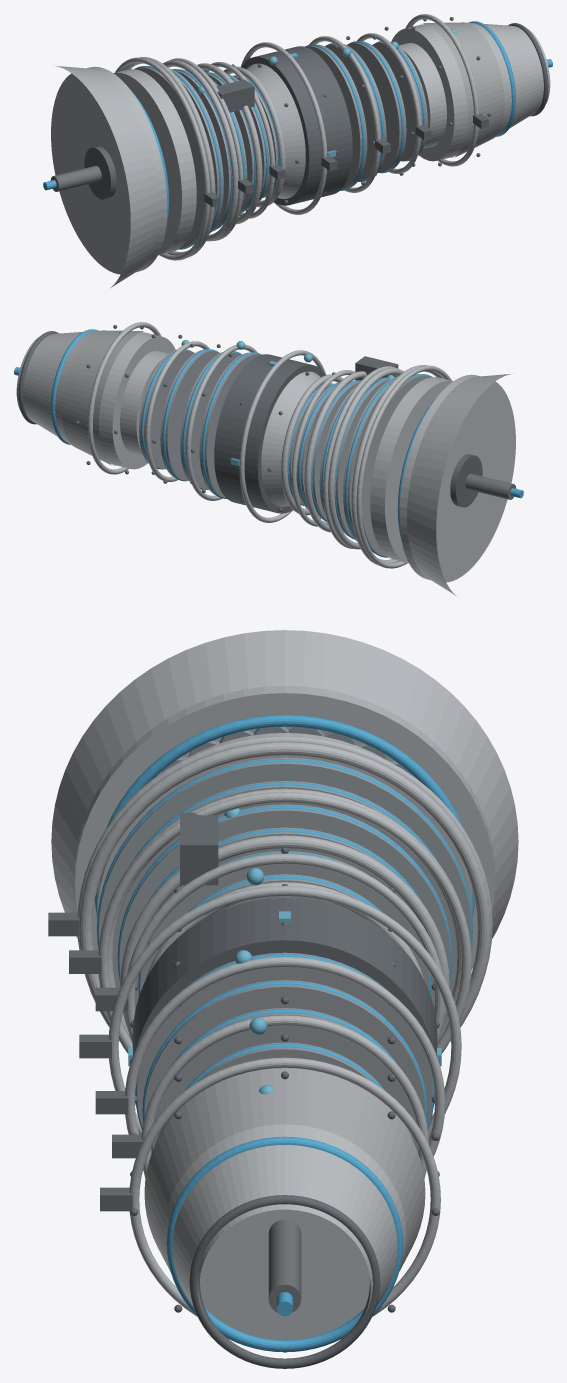
The model's file is engine.glb.
The picture shows the model from 3 angles, top to bottom: view 1: azimuth 30°, elevation 25°; view 2: azimuth 150°, elevation 25°; view 3: azimuth 270°, elevation 25°; orthographic projection. The views are drawn at different scales.
Parts seen in each view (by area): view 1: FAN_FRONT_RING, COMBUSTOR_CASE, FAN_INLET_LIP, FAN_CASE, EXHAUST_TRANSITION, EXHAUST_NOZZLE, EXHAUST_FRAME, COMBUSTOR_DIFFUSER, TURBINE_DISK_2, TURBINE_REAR_BEARING_HOUSING, TURBINE_DISK_0, COMPRESSOR_DISK_0 (+29 smaller); view 2: FAN_FRONT_RING, COMBUSTOR_CASE, FAN_INLET_LIP, FAN_CASE, EXHAUST_TRANSITION, EXHAUST_NOZZLE, EXHAUST_FRAME, COMBUSTOR_DIFFUSER, TURBINE_DISK_2, TURBINE_REAR_BEARING_HOUSING, TURBINE_DISK_0, TURBINE_DISK_3 (+31 smaller); view 3: EXHAUST_NOZZLE, FAN_INLET_LIP, EXHAUST_TRANSITION, COMBUSTOR_CASE, FAN_FRONT_RING, COMPRESSOR_CASE_RIB_0, COMPRESSOR_DISK_0, COWLING_RING_6, TURBINE_DISK_1, COMPRESSOR_DISK_2, COWLING_RING_1, COWLING_RING_3 (+27 smaller).
Boxes of the visible parts, left/top/right/bottom form: FAN_FRONT_RING: left=51, top=66, right=167, bottom=274; COMBUSTOR_CASE: left=241, top=46, right=352, bottom=205; FAN_INLET_LIP: left=53, top=65, right=159, bottom=287; FAN_CASE: left=113, top=69, right=196, bottom=255; EXHAUST_TRANSITION: left=423, top=22, right=504, bottom=157; EXHAUST_NOZZLE: left=466, top=22, right=550, bottom=137; EXHAUST_FRAME: left=391, top=24, right=467, bottom=161; COMBUSTOR_DIFFUSER: left=246, top=63, right=305, bottom=198; TURBINE_DISK_2: left=347, top=41, right=406, bottom=172; TURBINE_REAR_BEARING_HOUSING: left=398, top=43, right=446, bottom=148; TURBINE_DISK_0: left=306, top=44, right=367, bottom=190; COMPRESSOR_DISK_0: left=134, top=66, right=205, bottom=249; FAN_FRONT_RING: left=399, top=374, right=515, bottom=582; COMBUSTOR_CASE: left=214, top=354, right=325, bottom=513; FAN_INLET_LIP: left=407, top=373, right=513, bottom=595; FAN_CASE: left=370, top=377, right=453, bottom=563; EXHAUST_TRANSITION: left=62, top=330, right=143, bottom=465; EXHAUST_NOZZLE: left=16, top=330, right=100, bottom=445; EXHAUST_FRAME: left=99, top=332, right=175, bottom=469; COMBUSTOR_DIFFUSER: left=261, top=371, right=320, bottom=506; TURBINE_DISK_2: left=160, top=349, right=219, bottom=480; TURBINE_REAR_BEARING_HOUSING: left=120, top=351, right=168, bottom=456; TURBINE_DISK_0: left=199, top=352, right=260, bottom=498; TURBINE_DISK_3: left=139, top=350, right=194, bottom=469; EXHAUST_NOZZLE: left=163, top=1124, right=406, bottom=1340; FAN_INLET_LIP: left=51, top=630, right=518, bottom=938; EXHAUST_TRANSITION: left=144, top=1068, right=425, bottom=1271; COMBUSTOR_CASE: left=132, top=897, right=437, bottom=1106; FAN_FRONT_RING: left=75, top=686, right=494, bottom=969; COMPRESSOR_CASE_RIB_0: left=78, top=742, right=491, bottom=1041; COMPRESSOR_DISK_0: left=98, top=757, right=471, bottom=941; COWLING_RING_6: left=129, top=1057, right=440, bottom=1316; TURBINE_DISK_1: left=144, top=980, right=425, bottom=1153; COMPRESSOR_DISK_2: left=119, top=804, right=450, bottom=976; COWLING_RING_1: left=98, top=792, right=471, bottom=1053; COWLING_RING_3: left=108, top=886, right=461, bottom=1139.
Size of the model in its own units: 7.9 by 3.16 by 3.18.
